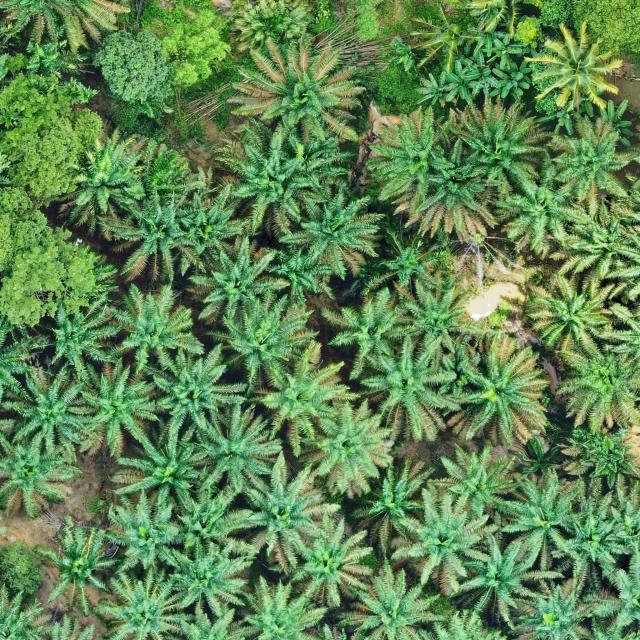Tree: (223, 30, 368, 147), (428, 338, 552, 452), (248, 337, 362, 458), (390, 479, 506, 597), (242, 447, 346, 572), (201, 287, 322, 390), (490, 462, 598, 570), (444, 96, 553, 201), (46, 123, 152, 230), (271, 182, 385, 281), (212, 125, 315, 234), (350, 334, 449, 446), (94, 281, 204, 380), (92, 177, 194, 281), (291, 400, 393, 504), (458, 531, 562, 633), (142, 340, 252, 435), (0, 356, 98, 461), (362, 104, 459, 206), (546, 114, 639, 220), (526, 20, 625, 119), (185, 404, 284, 502), (316, 284, 416, 379), (108, 417, 202, 518), (349, 455, 442, 557), (184, 236, 289, 326), (70, 356, 161, 458), (338, 553, 444, 640), (491, 169, 593, 256), (282, 517, 376, 610), (158, 537, 257, 624), (548, 486, 640, 576), (102, 484, 194, 574), (526, 268, 624, 351), (0, 426, 83, 522), (550, 197, 640, 283), (33, 526, 120, 610), (560, 418, 640, 507), (363, 224, 455, 298), (225, 574, 327, 640), (91, 564, 178, 640), (438, 438, 522, 516), (175, 182, 245, 266), (174, 479, 254, 552), (160, 9, 232, 89), (93, 27, 167, 101), (403, 279, 470, 356), (233, 0, 314, 54), (0, 543, 43, 596), (460, 49, 501, 101), (467, 11, 510, 59), (488, 57, 532, 100), (445, 59, 485, 102), (415, 70, 458, 106), (483, 34, 522, 70)
